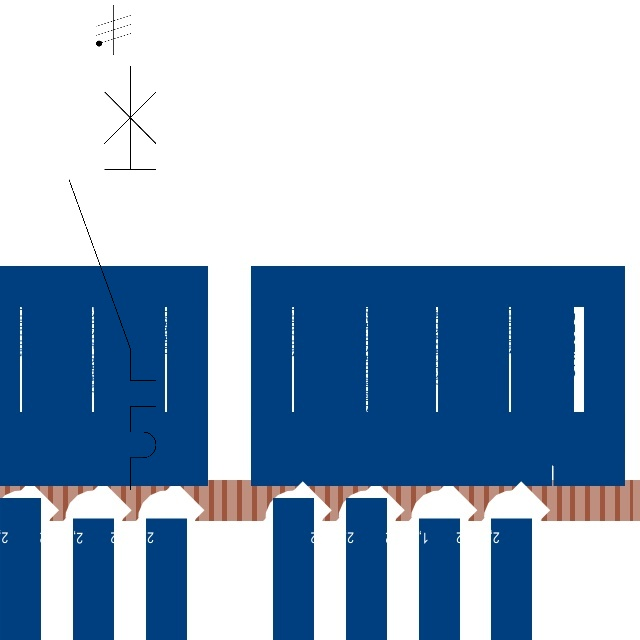interruptor_termomagnetico: (58, 55, 167, 501)
